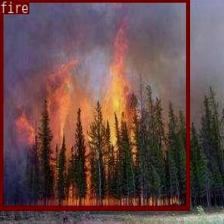fire: (0, 0, 188, 209)
